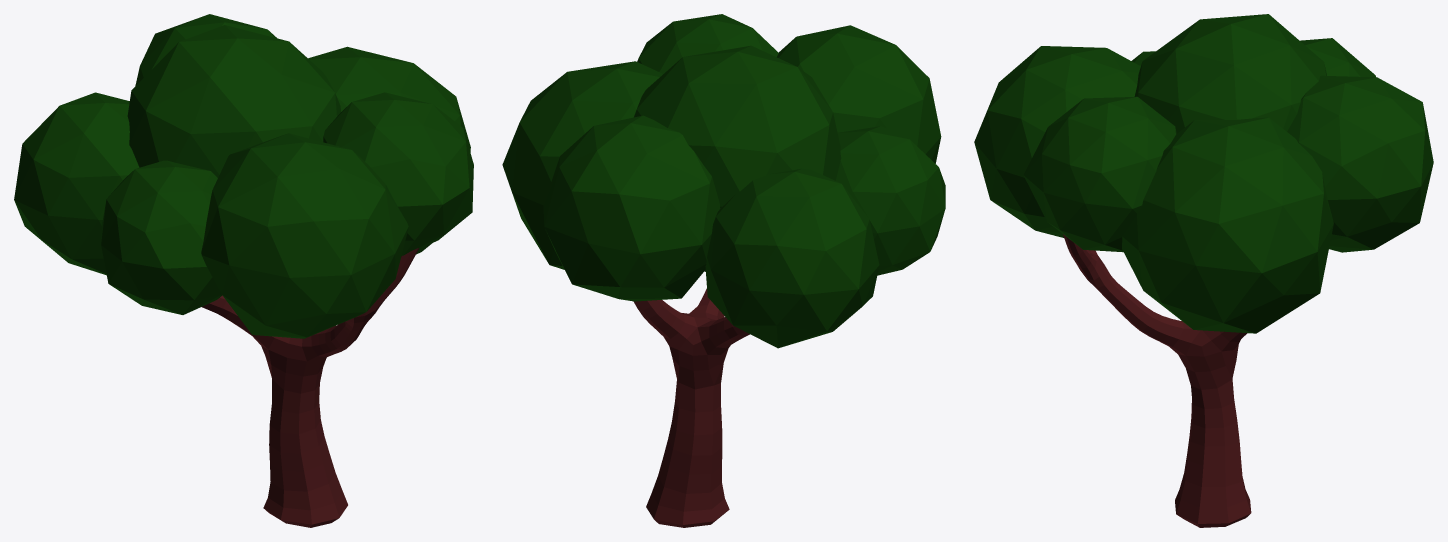
The model's file is BigTree.fbx.
3 renders of one model, left to right at view 1: azimuth 30°, elevation 25°; view 2: azimuth 150°, elevation 25°; view 3: azimuth 270°, elevation 25°, orthographic. The views are drawn at different scales.
Parts seen in each view (by area): view 1: Icosphere.002, Plane; view 2: Icosphere.002, Plane; view 3: Icosphere.002, Plane.
Boxes of the visible parts, bbox=[...] form: Icosphere.002: bbox=[14, 14, 473, 338]; Plane: bbox=[202, 248, 419, 527]; Icosphere.002: bbox=[502, 14, 945, 348]; Plane: bbox=[633, 288, 749, 527]; Icosphere.002: bbox=[974, 14, 1433, 333]; Plane: bbox=[1063, 234, 1251, 527].
Bounding box in the file's own units: 765 × 909 × 816.
